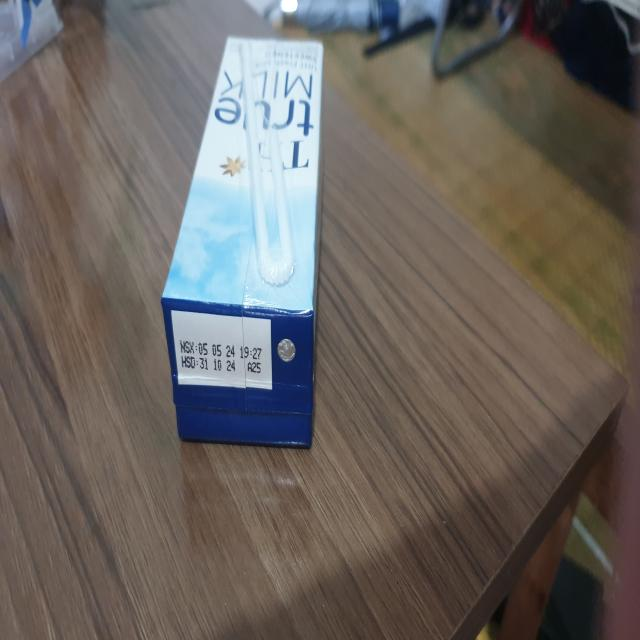TH: (163, 36, 327, 451)
